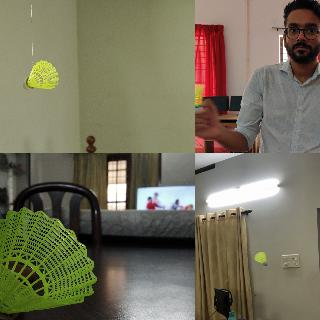shuttlecock: (0, 206, 96, 319), (22, 60, 58, 90), (195, 83, 204, 113), (255, 251, 268, 265)
